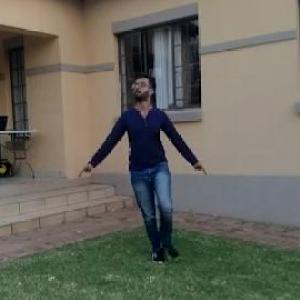land: (96, 88, 192, 241)
